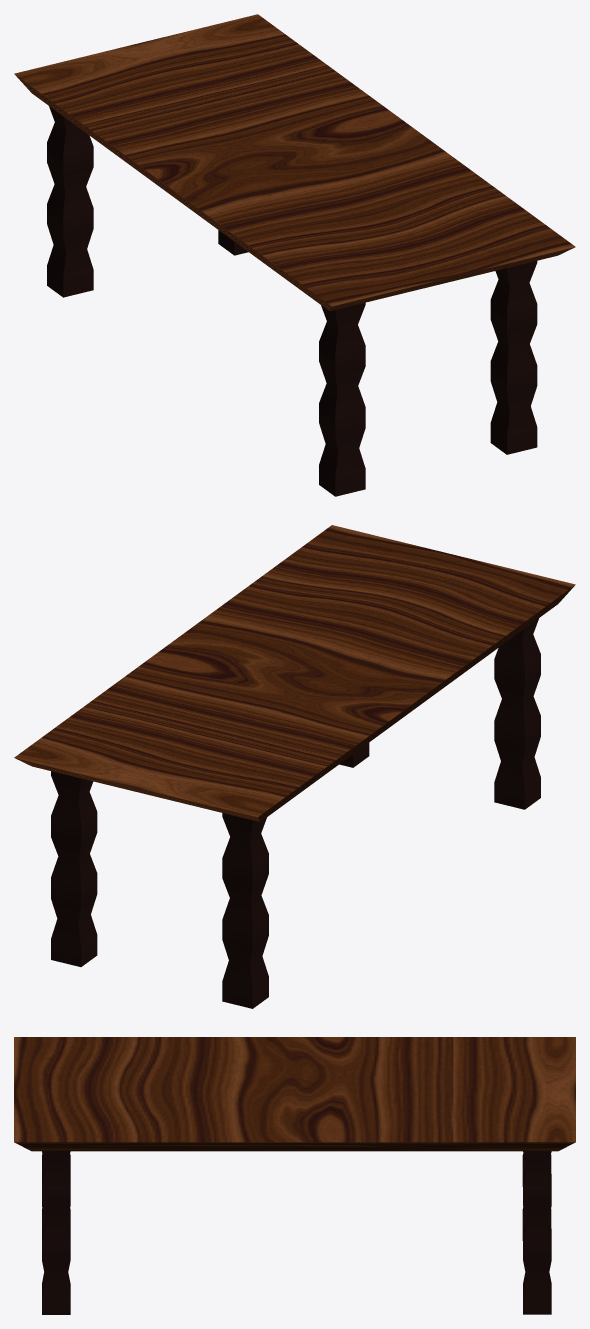
Rendered from Tisch.FBX.
3 renders of one model, top to bottom at view 1: azimuth 30°, elevation 25°; view 2: azimuth 150°, elevation 25°; view 3: azimuth 270°, elevation 25°, orthographic. The views are drawn at different scales.
Visible parts, largest first — view 1: Platte, Tischbein_R1, Tischbein_R2, Tischbein_L2; view 2: Platte, Tischbein_L2, Tischbein_L1, Tischbein_R2; view 3: Platte, Tischbein_R1, Tischbein_L1.
Boxes of the visible parts, x1,y1,x2,y2 form: Platte: (14, 14, 575, 311); Tischbein_R1: (490, 261, 537, 454); Tischbein_R2: (319, 302, 365, 496); Tischbein_L2: (47, 106, 93, 297); Platte: (14, 525, 575, 821); Tischbein_L2: (222, 813, 268, 1008); Tischbein_L1: (51, 771, 97, 966); Tischbein_R2: (494, 618, 540, 809); Platte: (14, 1037, 575, 1151); Tischbein_R1: (42, 1151, 70, 1314); Tischbein_L1: (523, 1151, 551, 1314).
Bounding box in the file's own units: 29.77 × 24.08 × 67.22.
2 materials, 1 textured.
